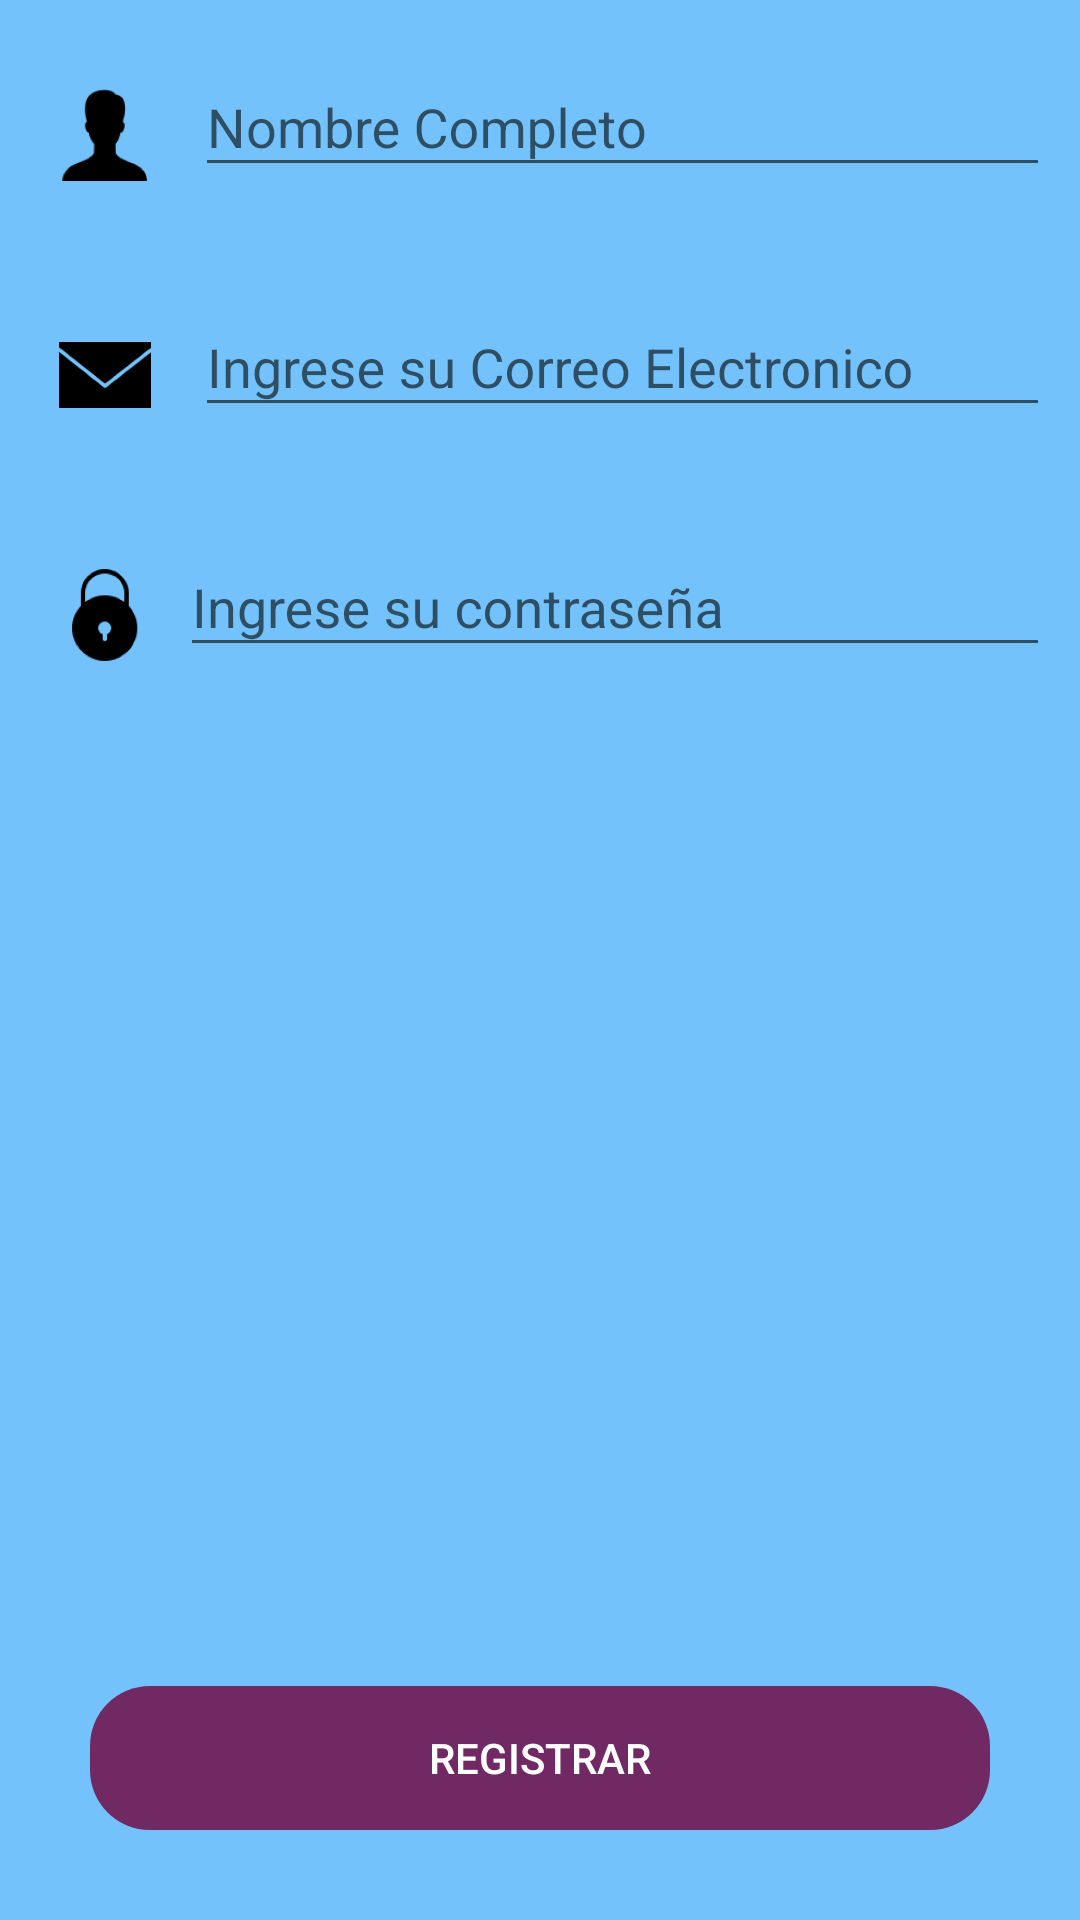

Icons on this 1080x1920 Android screen, each with the point to tap as (x,y):
user: (104,135)
